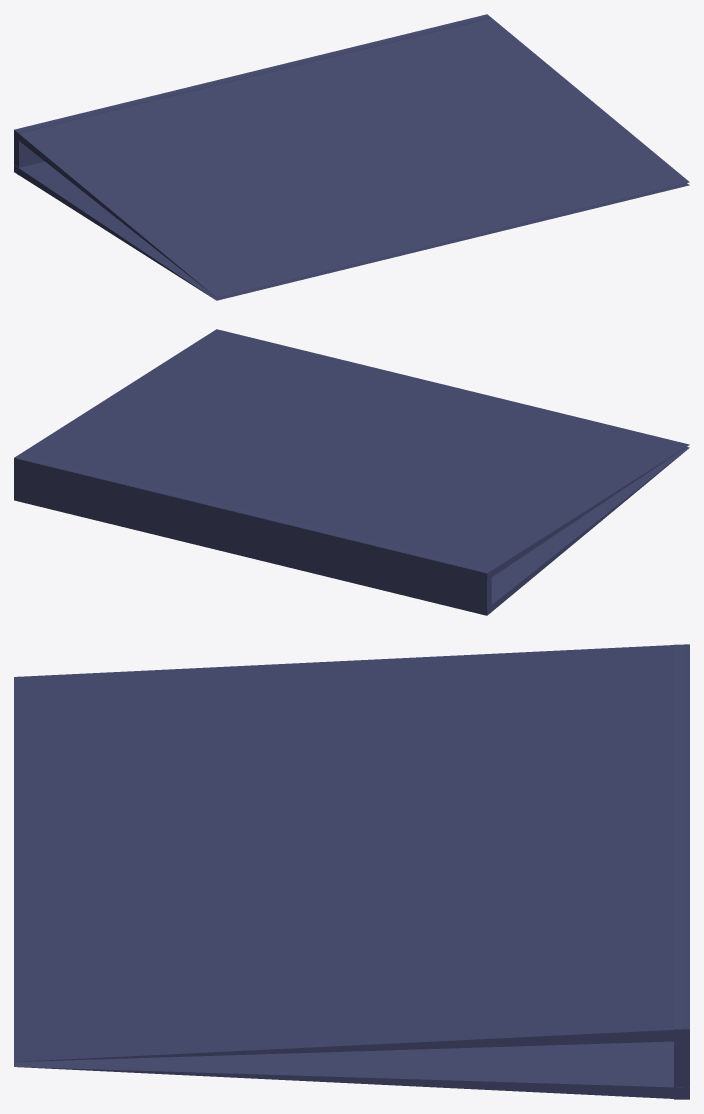
Rendered from binder closed.fbx.
The picture shows the model from 3 angles, top to bottom: view 1: azimuth 30°, elevation 25°; view 2: azimuth 150°, elevation 25°; view 3: azimuth 270°, elevation 25°; orthographic projection. The views are drawn at different scales.
Parts seen in each view (by area): view 1: Cube; view 2: Cube; view 3: Cube.
Boxes of the visible parts, left/top/right/bottom form: Cube: left=14, top=14, right=689, bottom=300; Cube: left=14, top=329, right=689, bottom=615; Cube: left=14, top=644, right=689, bottom=1099.
Size of the model in its own units: 297 by 25.44 by 220.
